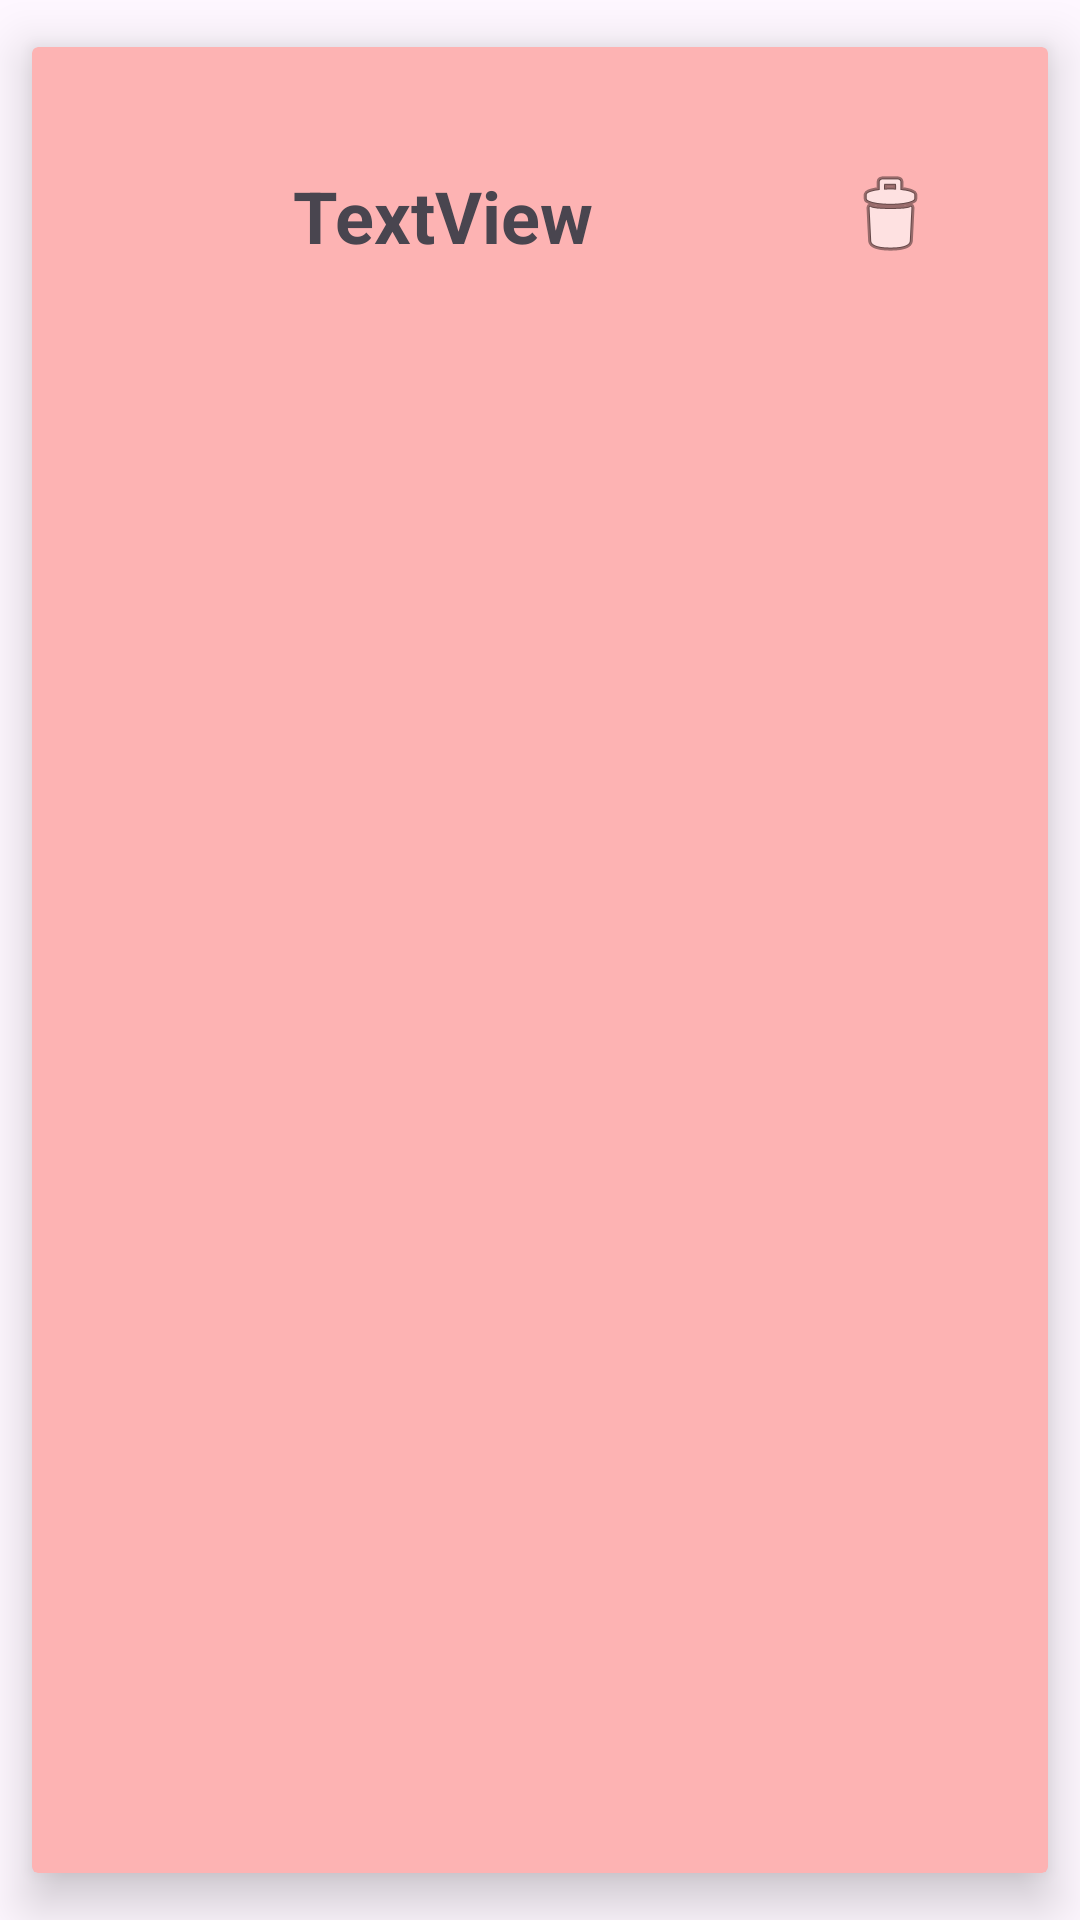

Locate icon controls on the screen. Image size 1080 × 1920, boxes as rect(x1, y1, x2, y2).
delete: rect(863, 176, 918, 251)
